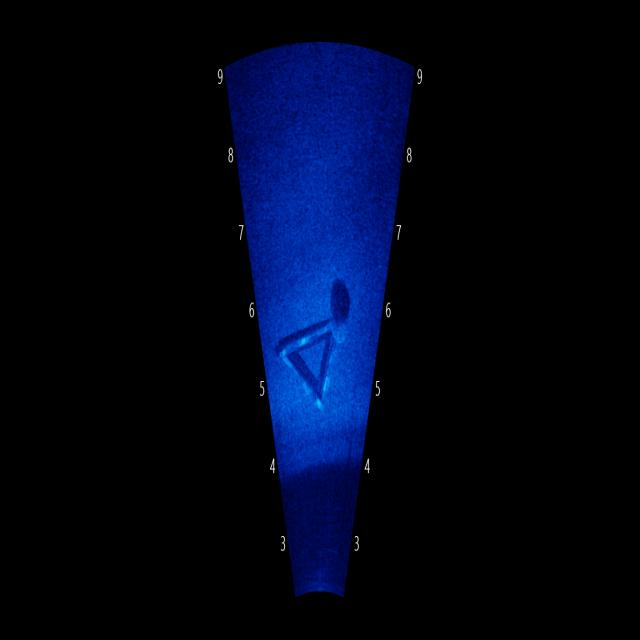triangle: (275, 306, 342, 417)
